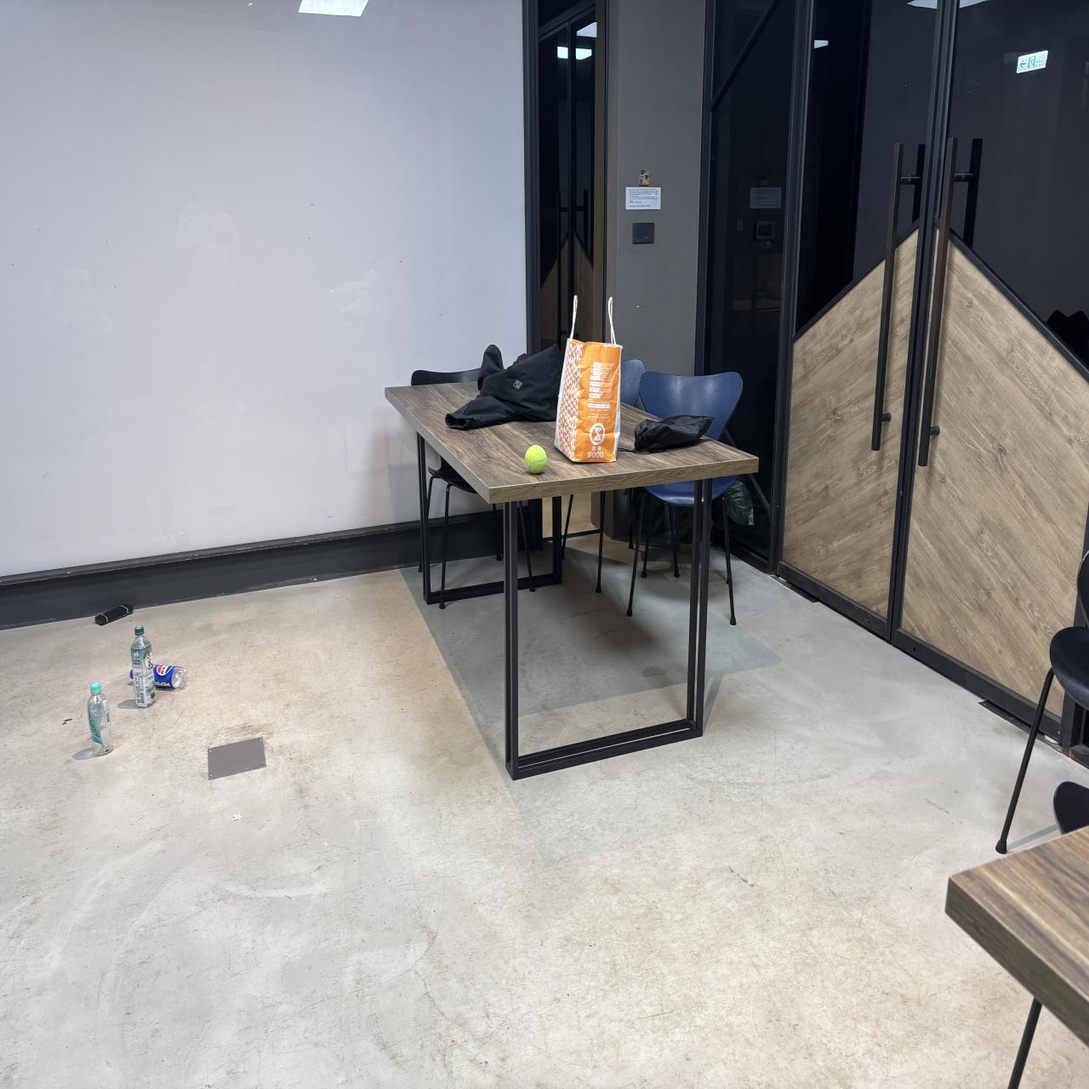plastic-bottle: (130, 626, 156, 708), (87, 682, 113, 756)
tennisball: (525, 446, 546, 474)
